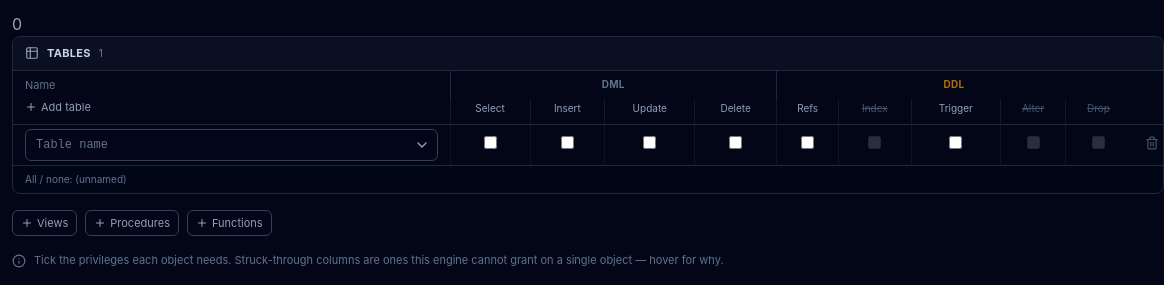
Test case: it does not spin when the caller passes a fresh principal each render › settles instead of looping
Type "orders" into the dropdown with placeholder "Table name". click: x=231, y=145
box: [25,129,438,161]
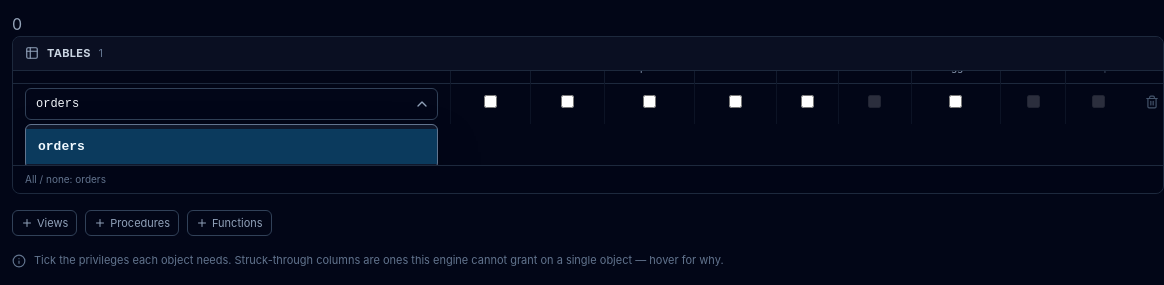
Click the 1st checkbox. click: x=490, y=102
box: [484,95,496,108]
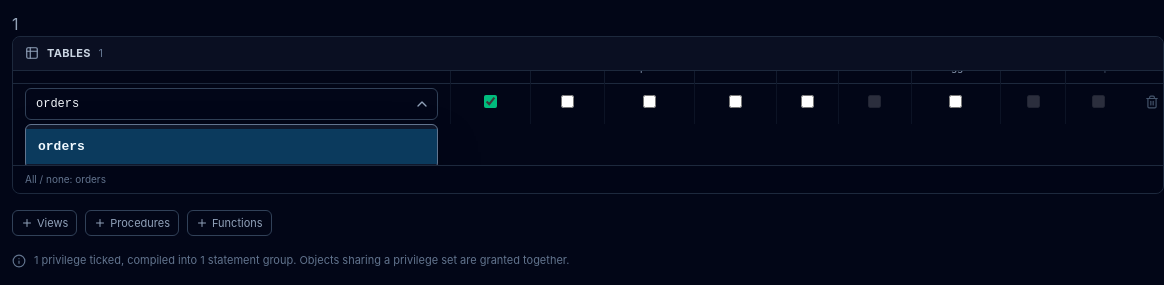
Now the text with test id "count" reads "1", box [12,14,18,34]
